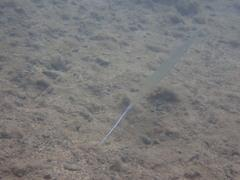Fistularia commersonii: (94, 9, 202, 163)
